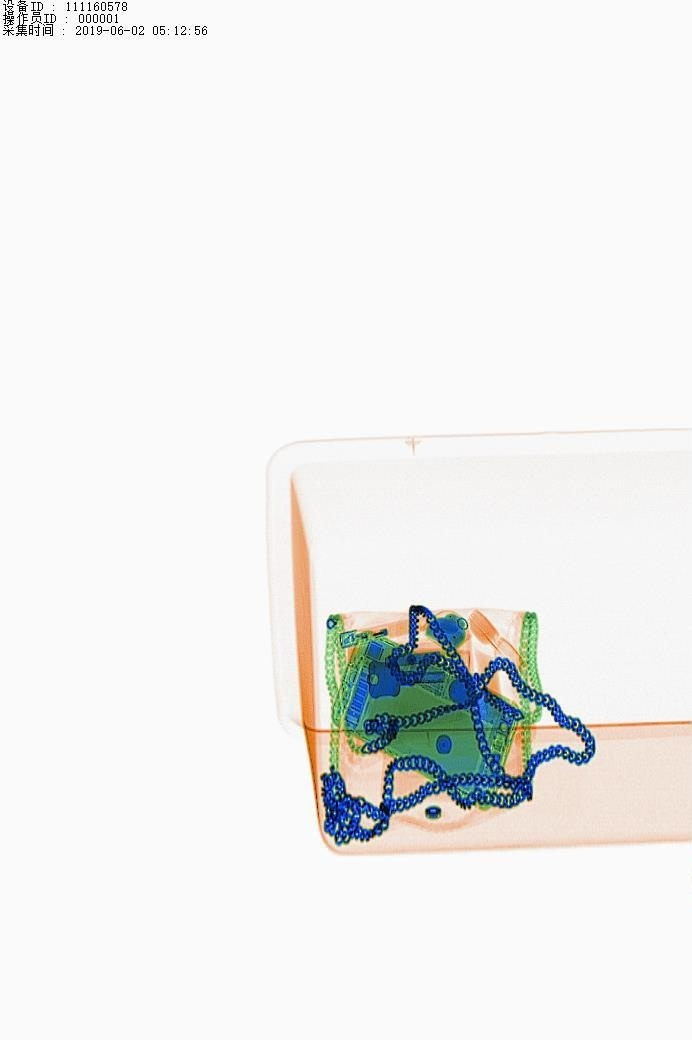NonmetallicFire: (320, 609, 452, 656)
